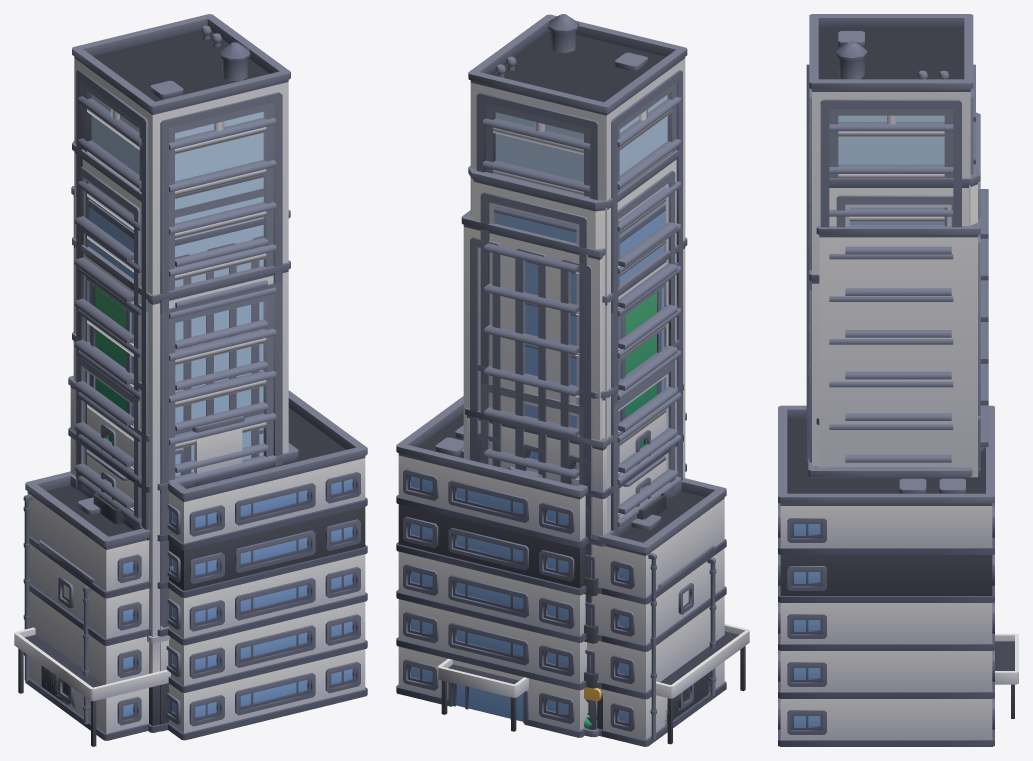
File: buildings.glb
3 views of the same model, side by side, from view 1: azimuth 30°, elevation 25°; view 2: azimuth 150°, elevation 25°; view 3: azimuth 270°, elevation 25° (orthographic).
Visible parts, largest first — view 1: building-n, skyscraper-d, building-j, skyscraper-c, skyscraper-b, skyscraper-e, building-k, skyscraper-a, building-m, building-l; view 2: building-n, skyscraper-d, skyscraper-b, skyscraper-e, building-j, building-m, skyscraper-a, skyscraper-c, building-k, building-i; view 3: building-n, skyscraper-d, skyscraper-e, skyscraper-b, skyscraper-c, building-l, skyscraper-a.
Part boxes in pixels (<box>): building-n: <box>14,390,367,746</box>; skyscraper-d: <box>72,14,290,731</box>; building-j: <box>23,471,149,740</box>; skyscraper-c: <box>72,237,290,732</box>; skyscraper-b: <box>72,140,267,518</box>; skyscraper-e: <box>71,186,290,480</box>; building-k: <box>39,540,95,724</box>; skyscraper-a: <box>72,331,267,530</box>; building-m: <box>68,375,263,629</box>; building-l: <box>93,443,298,731</box>; building-n: <box>396,396,749,744</box>; skyscraper-d: <box>468,14,687,530</box>; skyscraper-b: <box>468,150,678,730</box>; skyscraper-e: <box>461,204,665,729</box>; building-j: <box>583,478,726,746</box>; building-m: <box>464,383,683,736</box>; skyscraper-a: <box>477,339,680,729</box>; skyscraper-c: <box>525,237,687,532</box>; building-k: <box>658,545,716,725</box>; building-i: <box>584,477,684,729</box>; building-n: <box>778,405,1018,746</box>; skyscraper-d: <box>806,14,975,467</box>; skyscraper-e: <box>816,218,980,477</box>; skyscraper-b: <box>808,112,988,462</box>; skyscraper-c: <box>806,270,953,468</box>; building-l: <box>808,447,985,479</box>; skyscraper-a: <box>808,363,988,457</box>.
Size of what is drawn, in the model's own units: 2.32 by 5.47 by 1.82.
Materials: 1 (1 with a texture image).
